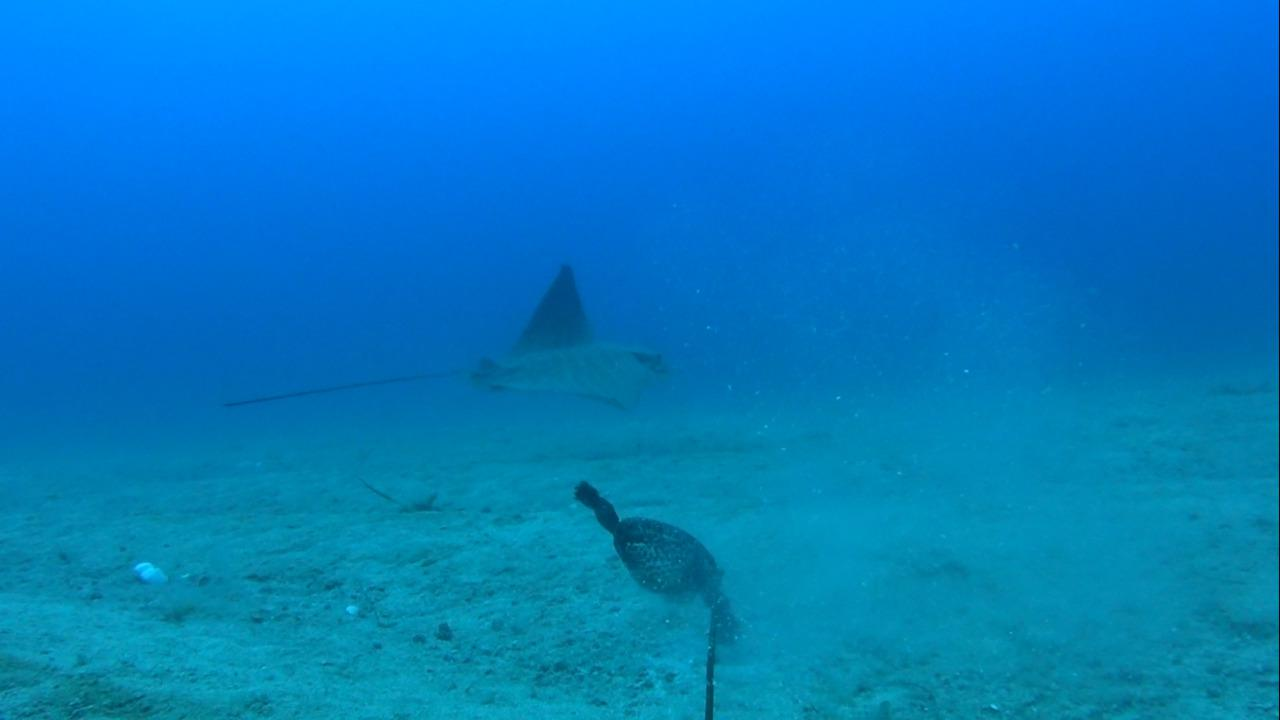myliobatis: (214, 258, 681, 424)
